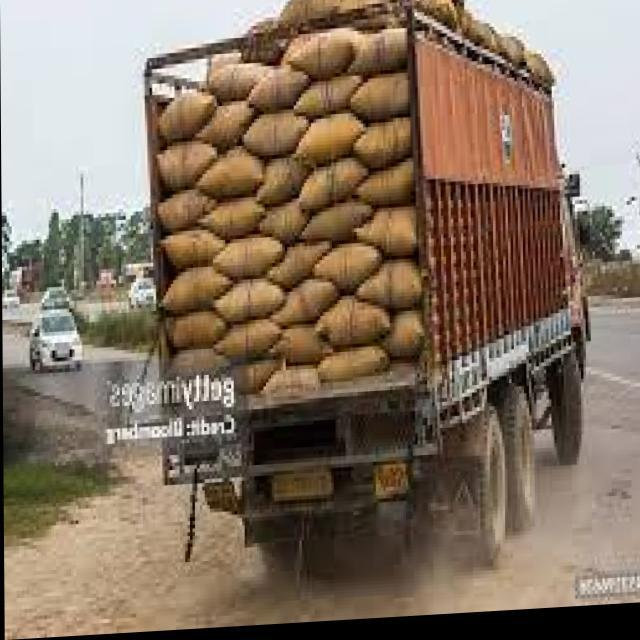uncovered: (150, 0, 589, 597)
